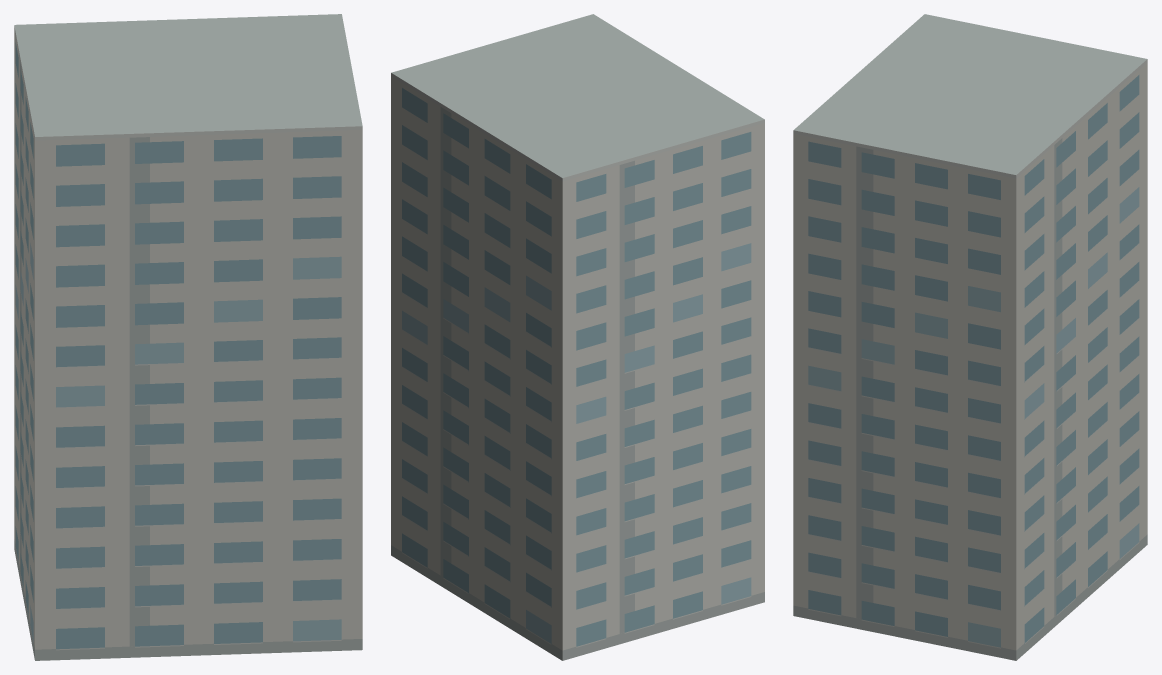
Rendered from residential-e0549e58-3711-49c3-99a1-a9c9809dc917.glb.
3 renders of one model, left to right at view 1: azimuth 30°, elevation 25°; view 2: azimuth 150°, elevation 25°; view 3: azimuth 270°, elevation 25°, orthographic. The views are drawn at different scales.
Visible parts, largest first — view 1: residential-e0549e58-3711-49c3-99a1-a9c9809dc917.tmp; view 2: residential-e0549e58-3711-49c3-99a1-a9c9809dc917.tmp; view 3: residential-e0549e58-3711-49c3-99a1-a9c9809dc917.tmp.
Boxes of the visible parts, x1,y1,x2,y2 form: residential-e0549e58-3711-49c3-99a1-a9c9809dc917.tmp: (14,14,362,660); residential-e0549e58-3711-49c3-99a1-a9c9809dc917.tmp: (391,14,764,660); residential-e0549e58-3711-49c3-99a1-a9c9809dc917.tmp: (793,14,1147,660).
Bounding box in the file's own units: 24.2 × 34 × 22.48.
